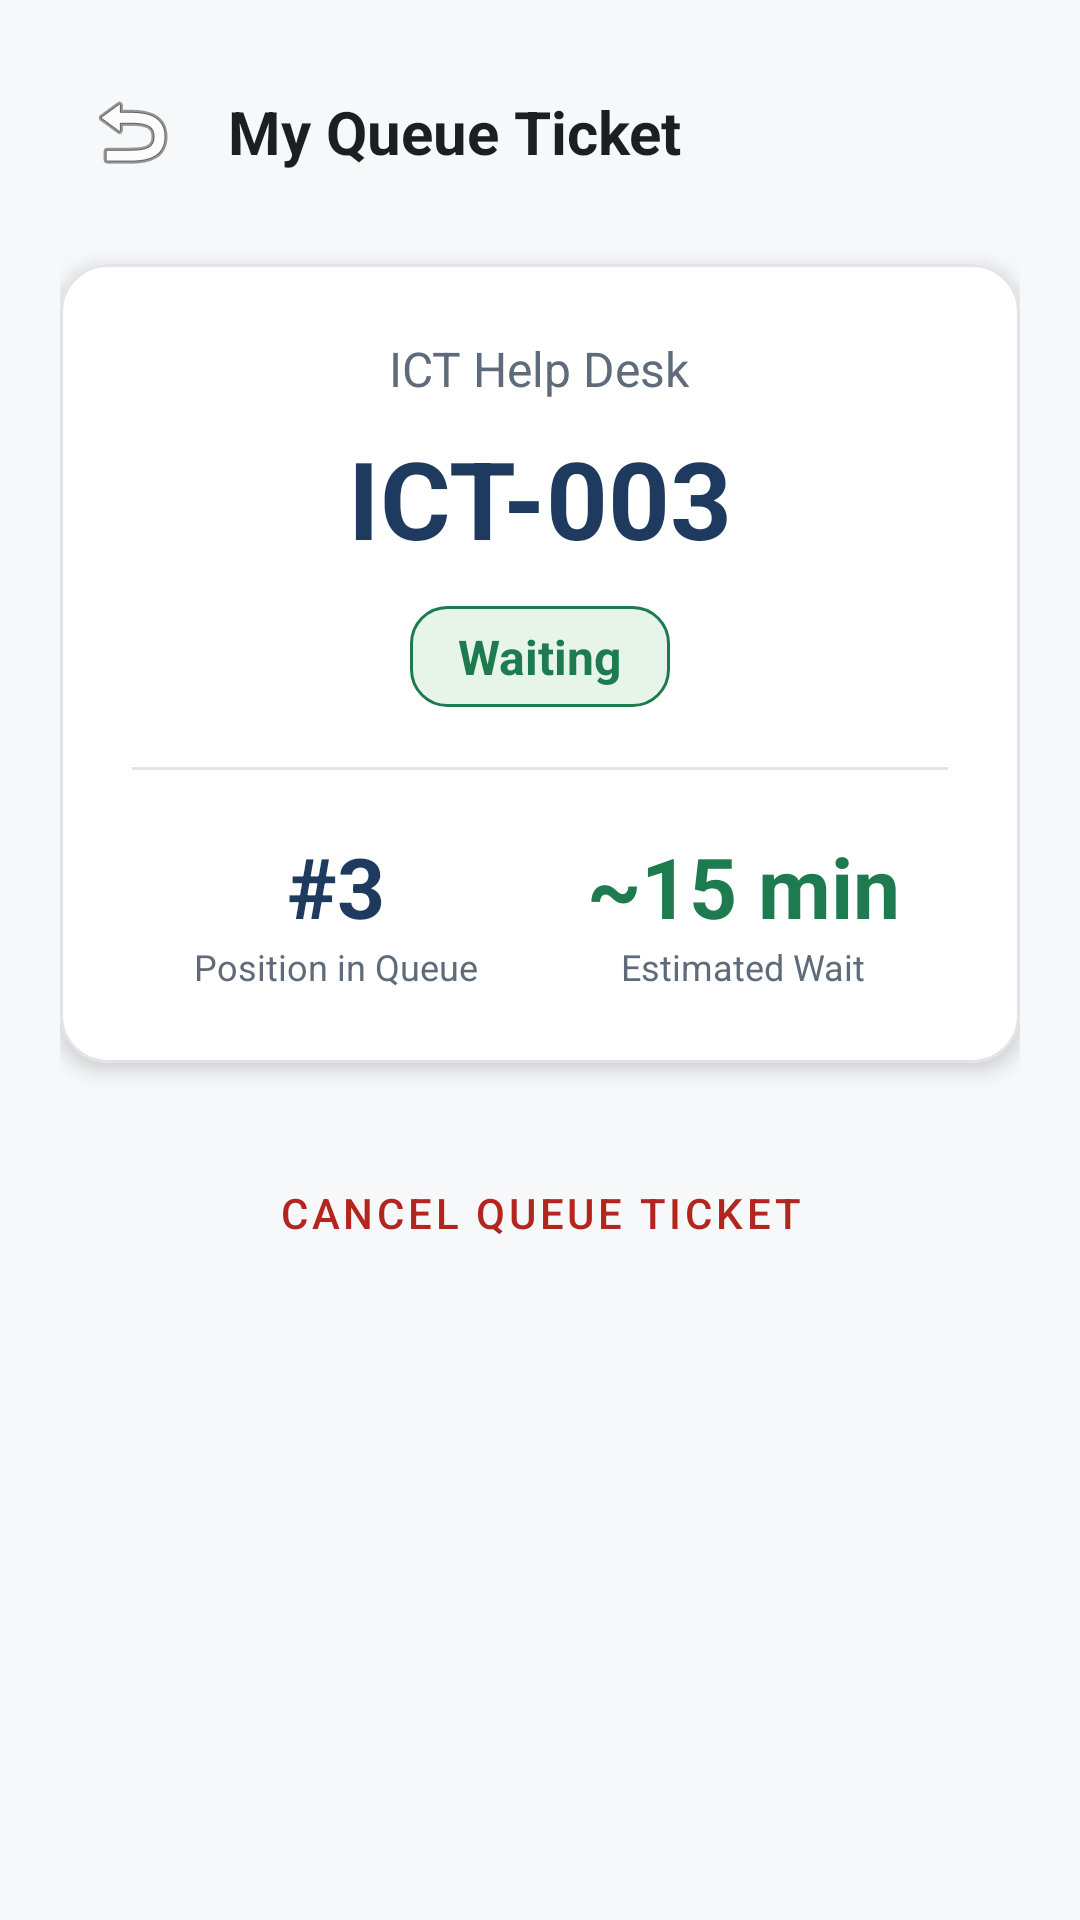

Screen size 1080×1920. Icon name, then its box in pixels as (x1, y1, x2, y2):
revert: (99, 101, 168, 164)
